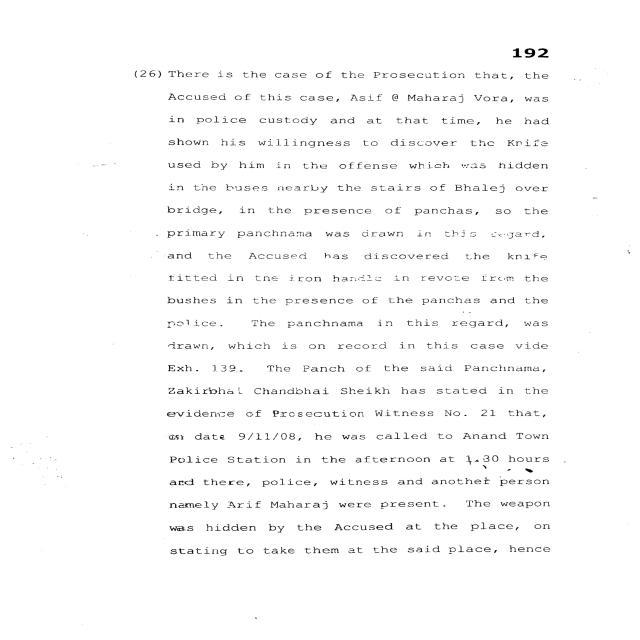page-number: (434, 1, 637, 66)
